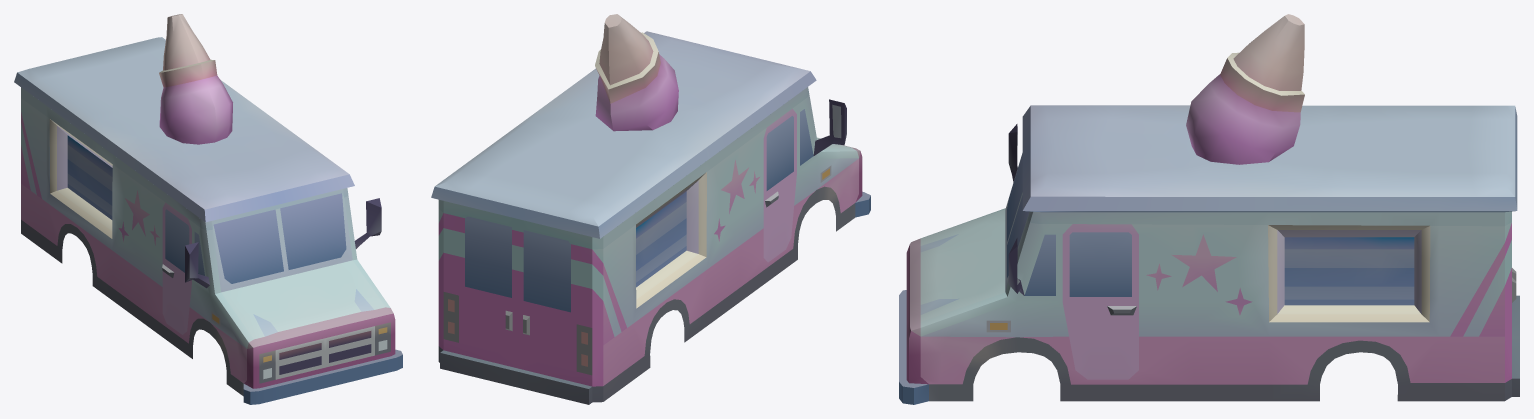
File: icecream_truck.glb
3 renders of one model, left to right at view 1: azimuth 30°, elevation 25°; view 2: azimuth 150°, elevation 25°; view 3: azimuth 270°, elevation 25°, orthographic. The views are drawn at different scales.
Parts seen in each view (by area): view 1: icecream_truck; view 2: icecream_truck; view 3: icecream_truck.
Boxes of the visible parts, x1,y1,x2,y2 form: icecream_truck: (14, 14, 402, 404); icecream_truck: (431, 14, 870, 404); icecream_truck: (899, 14, 1519, 404).
Bounding box in the file's own units: 2.71 × 3.5 × 5.79.
